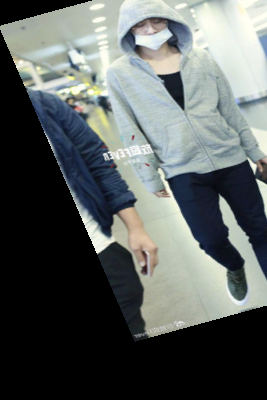mask_weared_incorrect: (110, 1, 200, 62)
